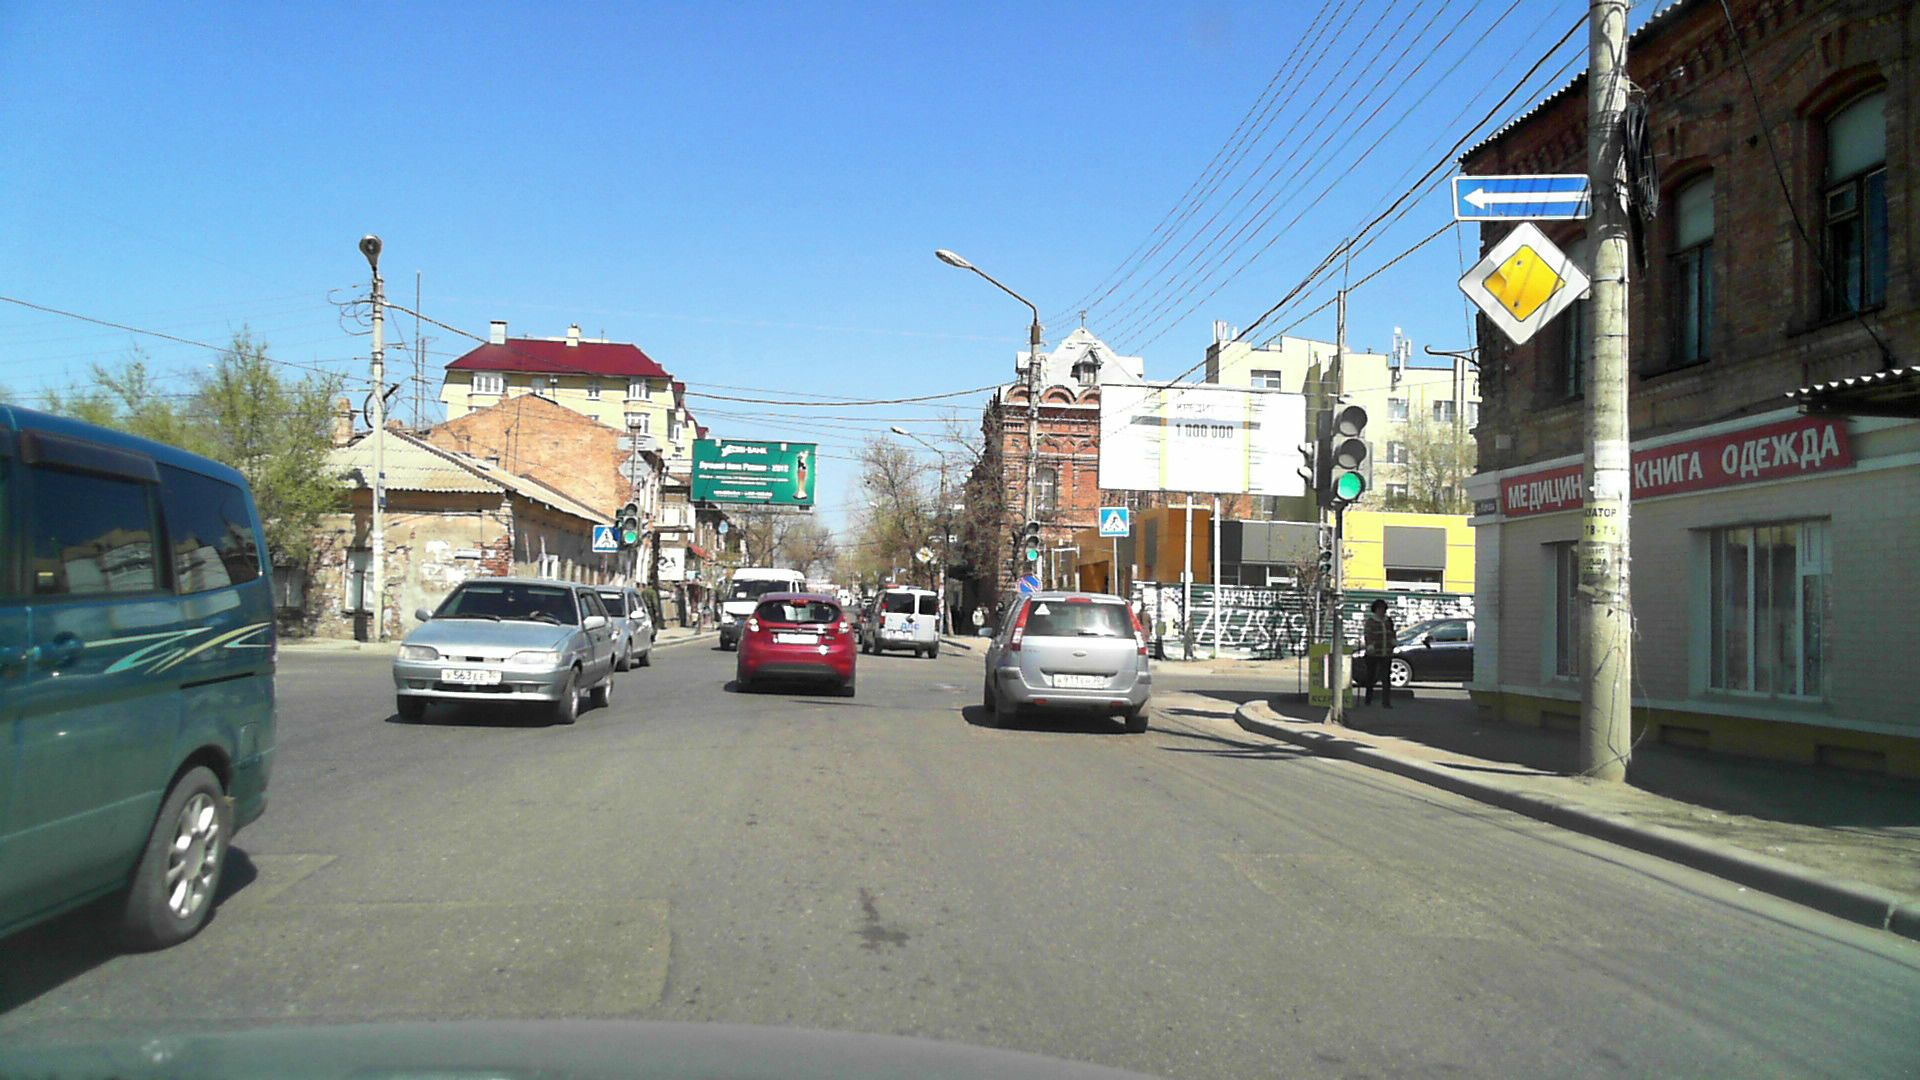One-Way Traffic: (1452, 175, 1590, 220)
Pedestrian Crossing: (1098, 508, 1127, 535), (593, 526, 620, 550)
